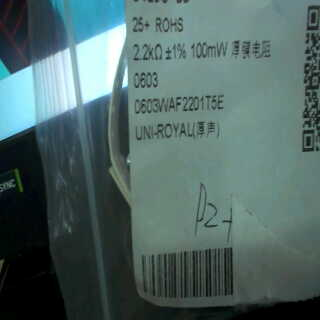2.2kR: (131, 41, 166, 63)
